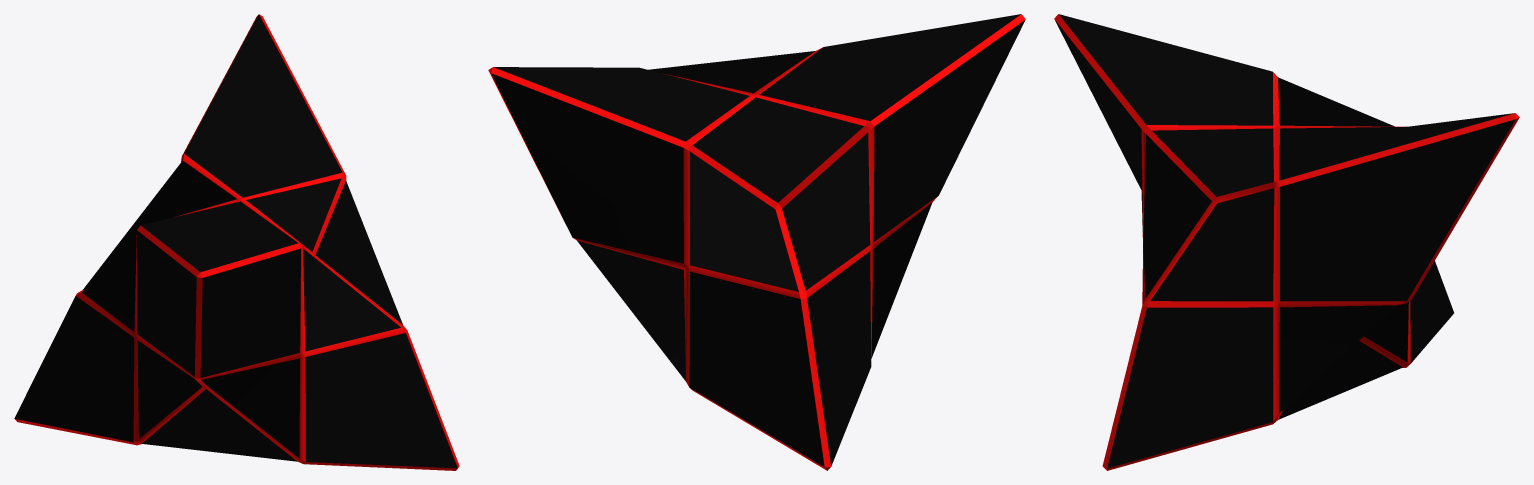
The model's file is star_export.fbx.
3 renders of one model, left to right at view 1: azimuth 30°, elevation 25°; view 2: azimuth 150°, elevation 25°; view 3: azimuth 270°, elevation 25°, orthographic. The views are drawn at different scales.
Visible parts, largest first — view 1: pCube1; view 2: pCube1; view 3: pCube1.
Boxes of the visible parts, x1,y1,x2,y2 form: pCube1: (14,14,459,470); pCube1: (488,14,1025,470); pCube1: (1054,14,1519,470).
Bounding box in the file's own units: 1.36 × 1.46 × 1.75.
